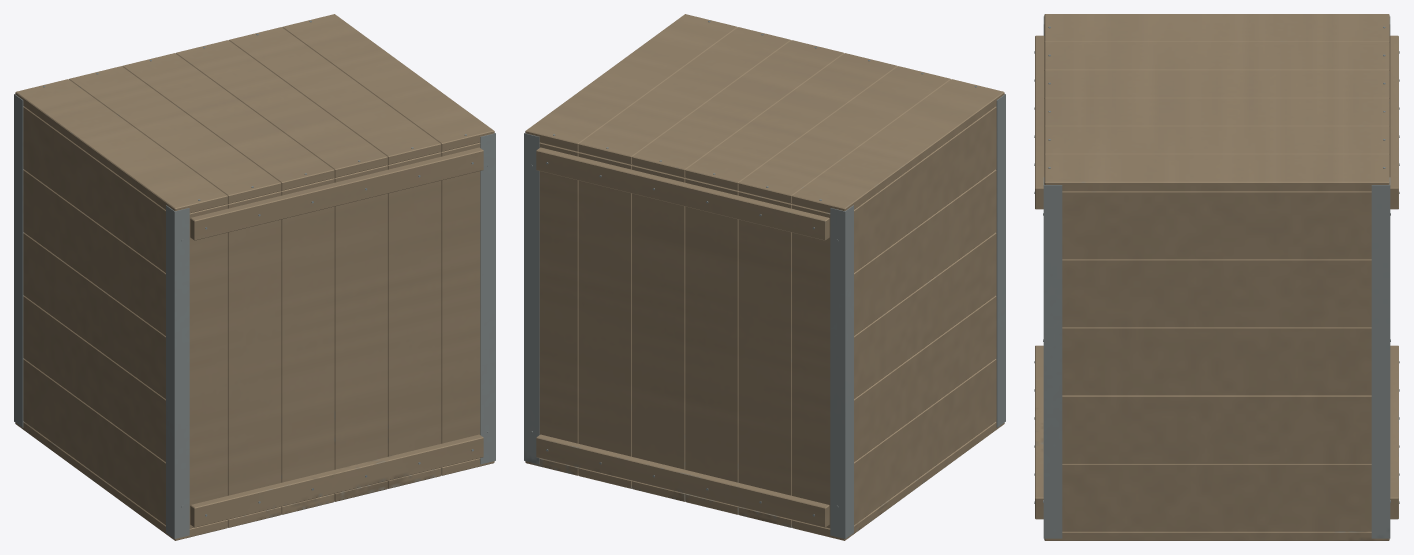
The model's file is wooden_crate_large.glb.
The picture shows the model from 3 angles, left to right: view 1: azimuth 30°, elevation 25°; view 2: azimuth 150°, elevation 25°; view 3: azimuth 270°, elevation 25°; orthographic projection. The views are drawn at different scales.
Parts seen in each view (by area): view 1: WoodenCrateLarge; view 2: WoodenCrateLarge; view 3: WoodenCrateLarge.
Boxes of the visible parts, x1=… form: WoodenCrateLarge: x1=14, y1=14, x2=495, y2=540; WoodenCrateLarge: x1=524, y1=14, x2=1005, y2=540; WoodenCrateLarge: x1=1034, y1=14, x2=1399, y2=540.
Size of what is drawn, in the model's own units: 1 by 0.9916 by 0.9126.
Materials: 1 (1 with a texture image).
